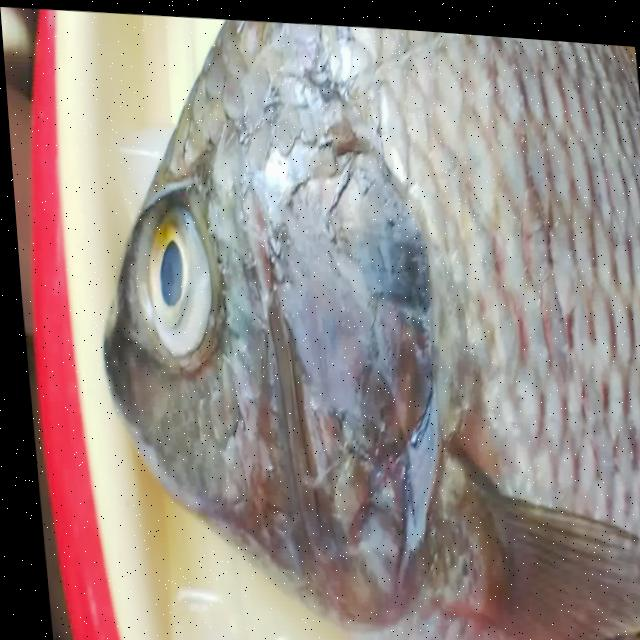Fresh: (296, 17, 640, 631), (119, 166, 226, 380)
